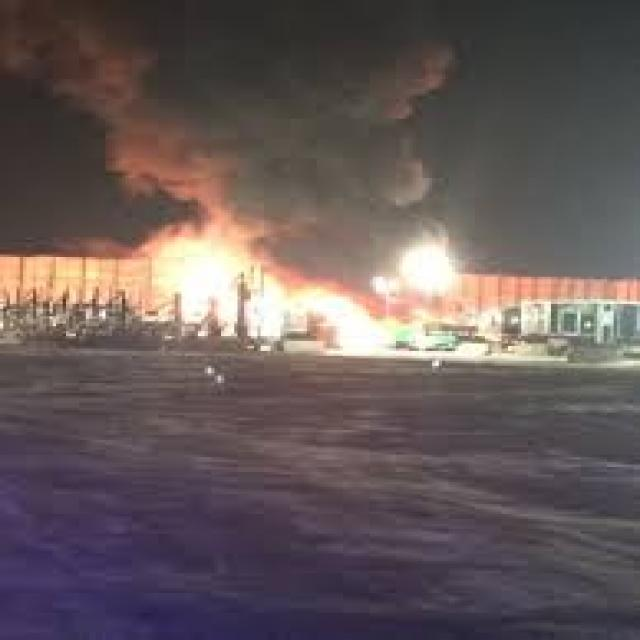fire: (168, 257, 393, 353)
smoke: (3, 2, 452, 260)
